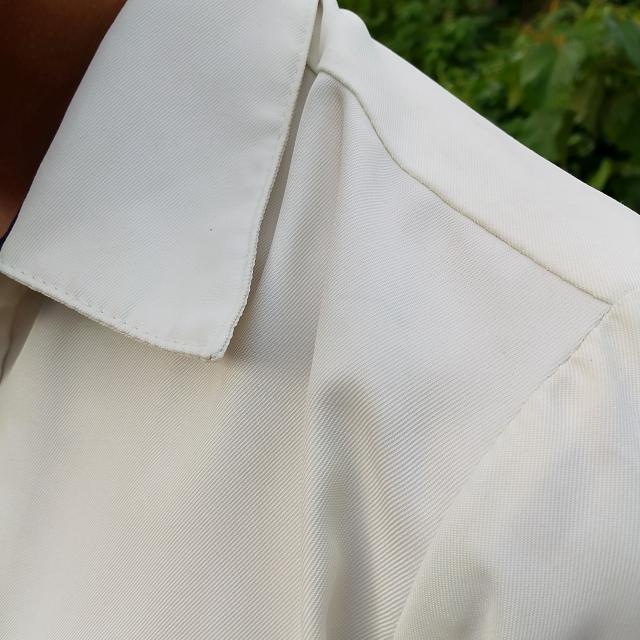education_male_uniform: (0, 3, 482, 524)
